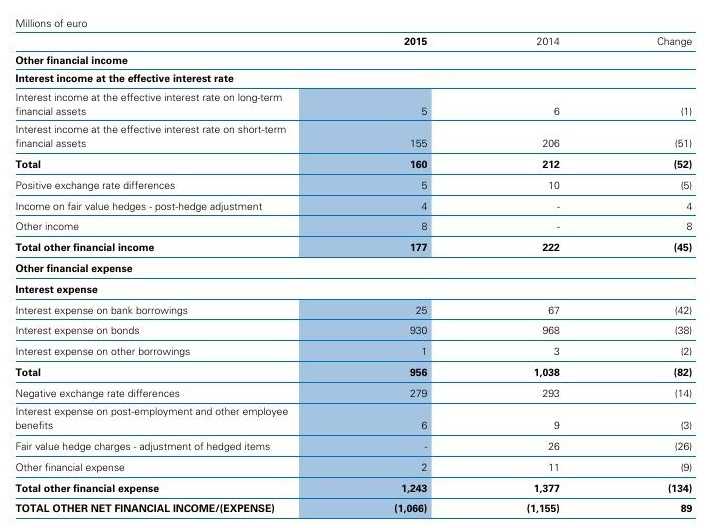table: (0, 0, 710, 528)
